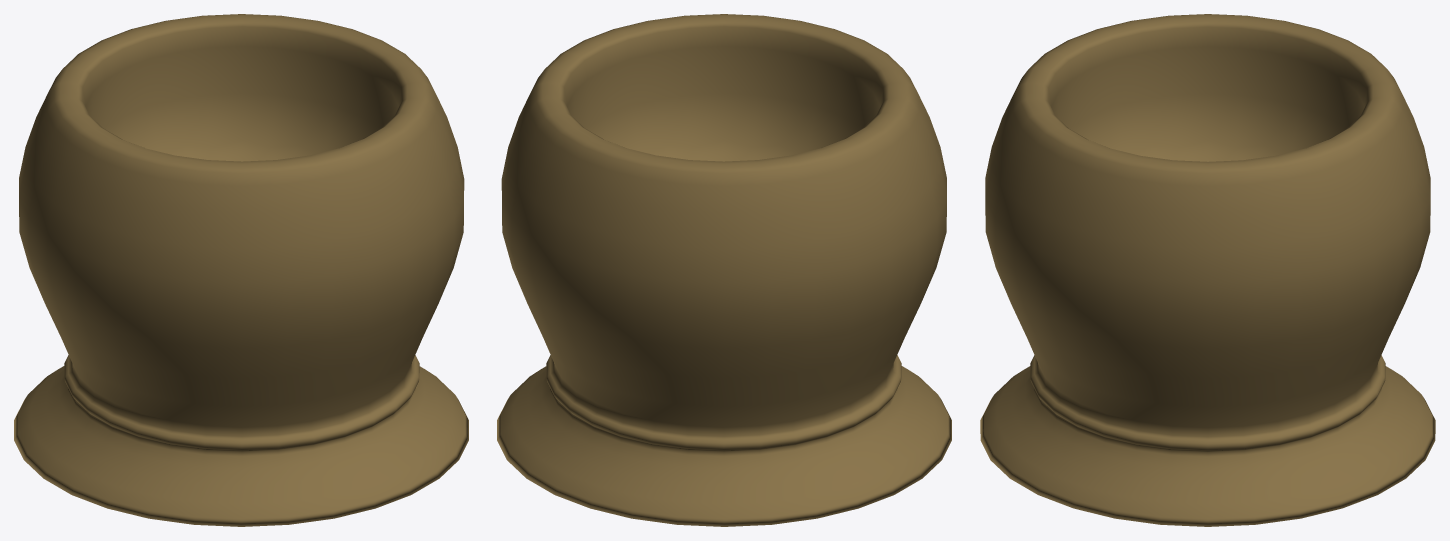
File: plantPot_hp.fbx
3 views of the same model, side by side, from view 1: azimuth 30°, elevation 25°; view 2: azimuth 150°, elevation 25°; view 3: azimuth 270°, elevation 25° (orthographic).
Visible parts, largest first — view 1: plantPot_hp; view 2: plantPot_hp; view 3: plantPot_hp.
Part boxes in pixels (x1=…): plantPot_hp: x1=14, y1=14, x2=468, y2=526; plantPot_hp: x1=497, y1=14, x2=951, y2=526; plantPot_hp: x1=980, y1=14, x2=1435, y2=526.
Size of the model in its own units: 0.2442 by 0.2031 by 0.2429.
